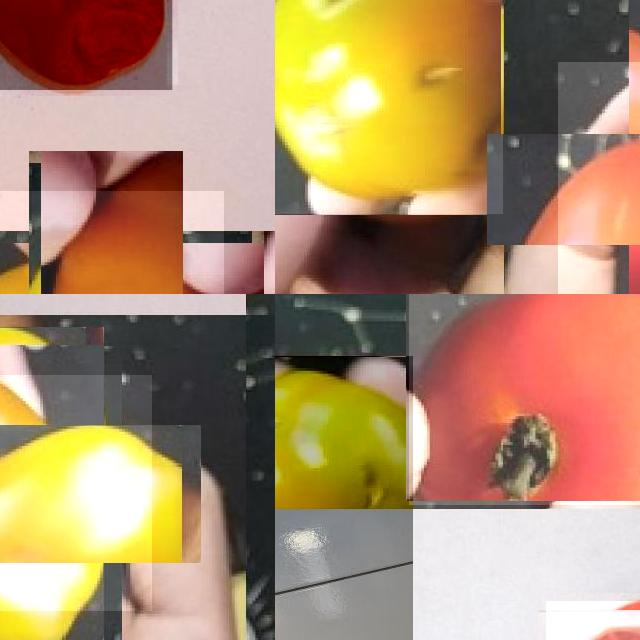1: (0, 375, 152, 611), (0, 190, 223, 294), (0, 0, 172, 90)
Fresh Tomato: (409, 294, 640, 505), (558, 62, 640, 294)
Rotten Tomato: (275, 0, 502, 214), (275, 356, 413, 509)
